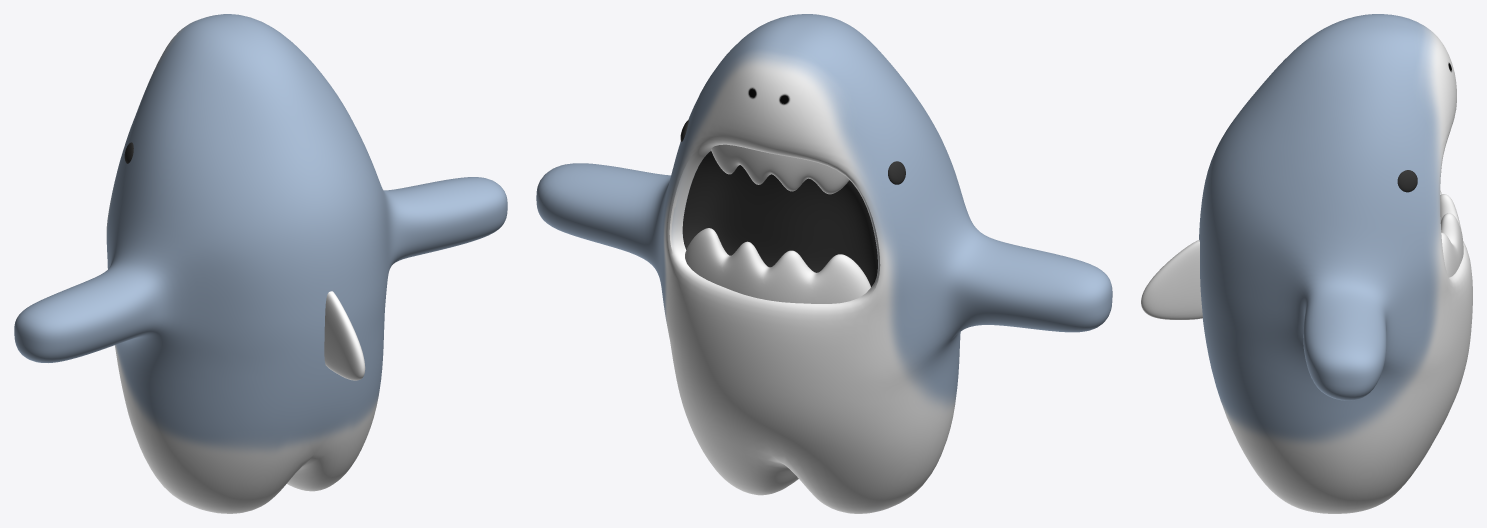
Rendered from sharky.gltf.
3 renders of one model, left to right at view 1: azimuth 30°, elevation 25°; view 2: azimuth 150°, elevation 25°; view 3: azimuth 270°, elevation 25°, orthographic. The views are drawn at different scales.
Visible parts, largest first — view 1: Cube.004; view 2: Cube.004; view 3: Cube.004.
Boxes of the visible parts, x1,y1,x2,y2 form: Cube.004: [14, 14, 507, 513]; Cube.004: [536, 14, 1112, 513]; Cube.004: [1141, 14, 1472, 513].
Size of the model in its own units: 2.03 by 1.74 by 1.13.
4 materials, 1 textured.
